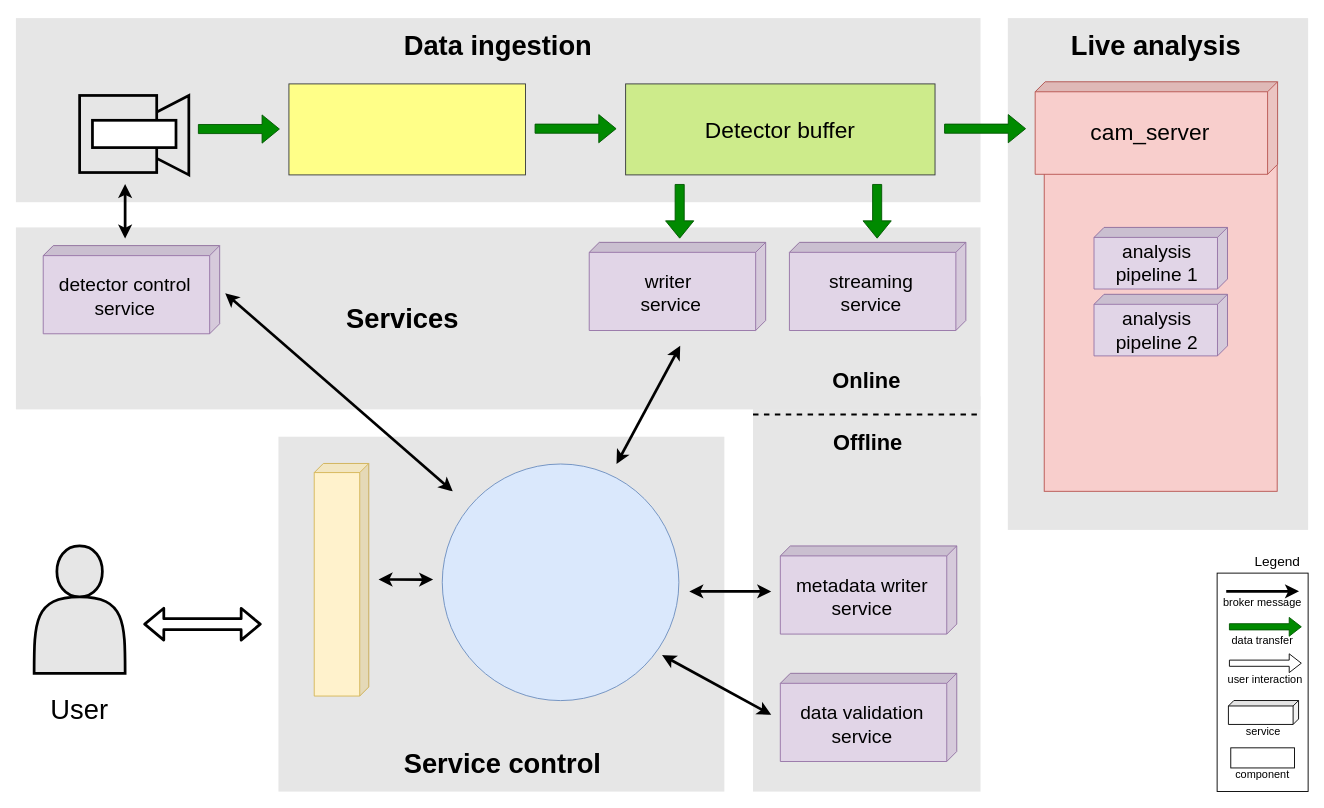
Image size: 1324x808. Some labels were removed from this diagram. Here are the shapes that lost their labels. From the top down, the box of each, then its label:
(91, 118, 177, 149): Detector
(288, 83, 526, 175): Detector readout
(313, 463, 369, 696): REST interface
(441, 463, 679, 701): Broker
